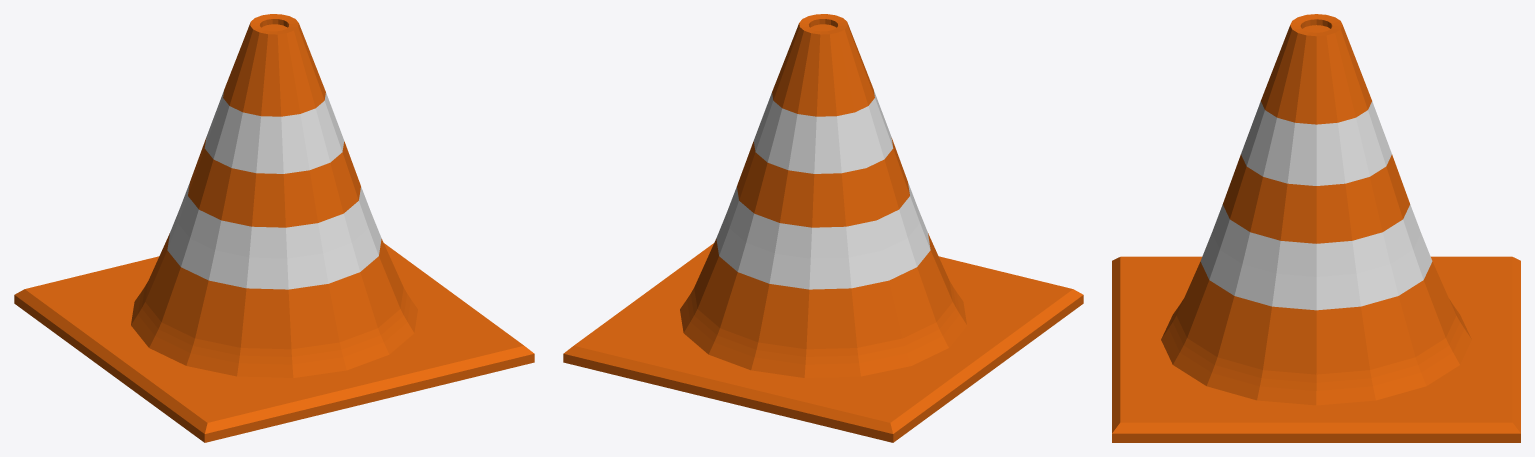
The model's file is constructBarrier_triangle.fbx.
3 views of the same model, side by side, from view 1: azimuth 30°, elevation 25°; view 2: azimuth 150°, elevation 25°; view 3: azimuth 270°, elevation 25° (orthographic). The views are drawn at different scales.
Visible parts, largest first — view 1: Cone, Cone.001; view 2: Cone, Cone.001; view 3: Cone, Cone.001.
Part boxes in pixels (box(x1,y1,x2,y2)): Cone: box(14, 14, 534, 442); Cone.001: box(167, 91, 381, 289); Cone: box(563, 14, 1083, 442); Cone.001: box(716, 91, 930, 289); Cone: box(1112, 14, 1520, 442); Cone.001: box(1200, 101, 1432, 310).
Size of the model in its own units: 91.2 by 81.59 by 91.2.
